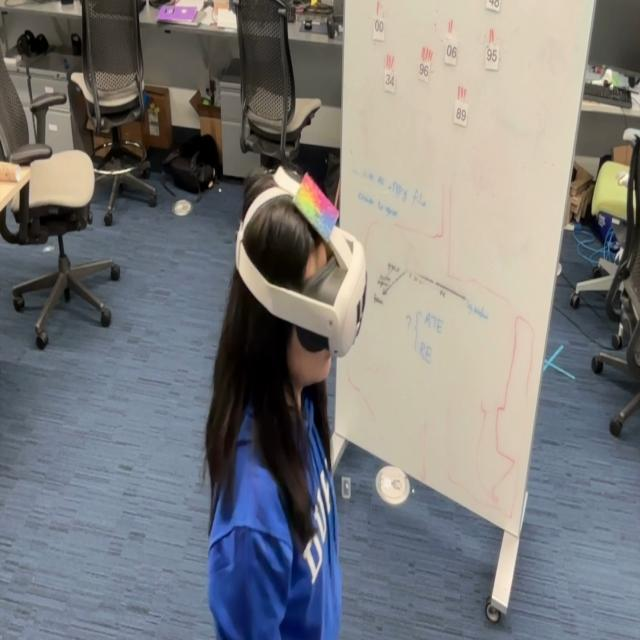Headset: (235, 182, 367, 358)
Marker: (296, 175, 342, 242)
